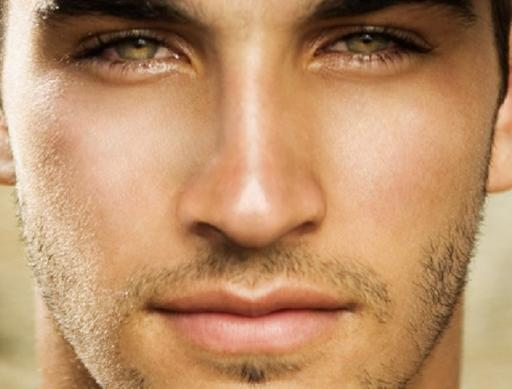left_eye: (312, 29, 430, 67)
left_lip_corner: (329, 292, 368, 323)
right_eye: (66, 33, 193, 75)
right_lip_corner: (137, 298, 179, 323)
